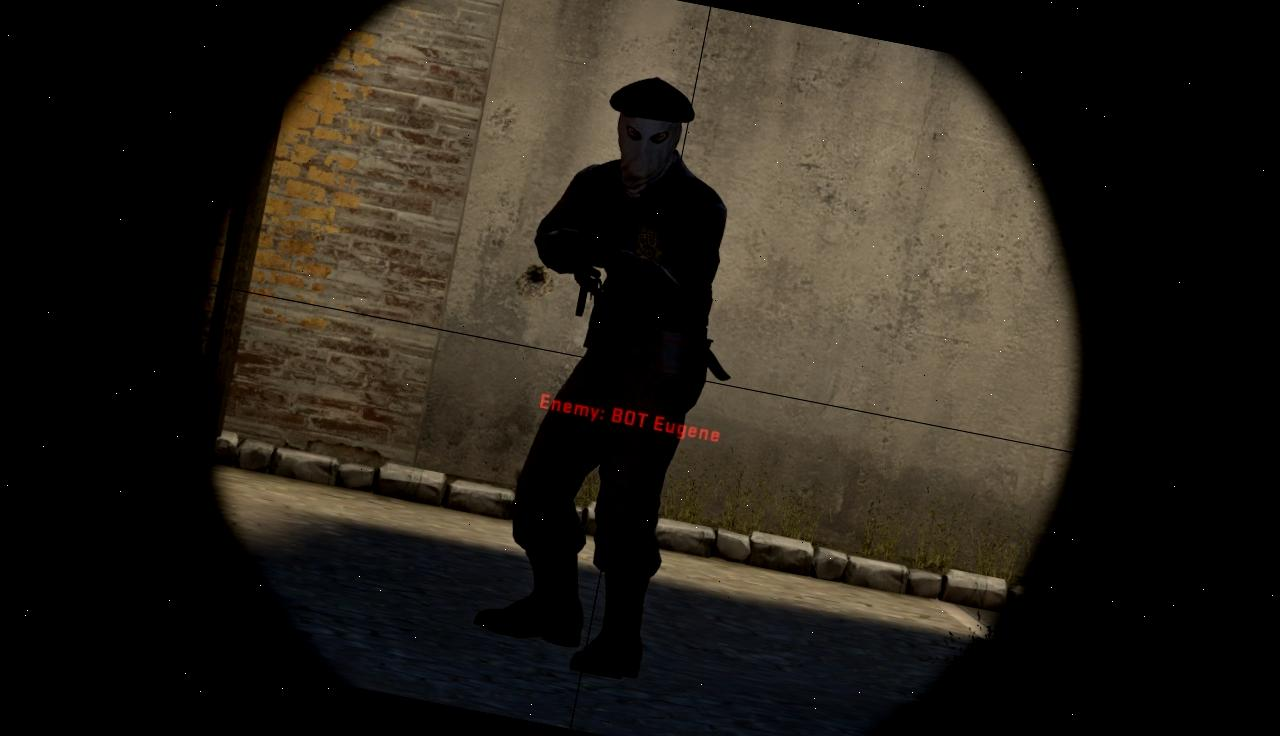tt: (479, 65, 744, 677)
tthead: (600, 72, 692, 183)
